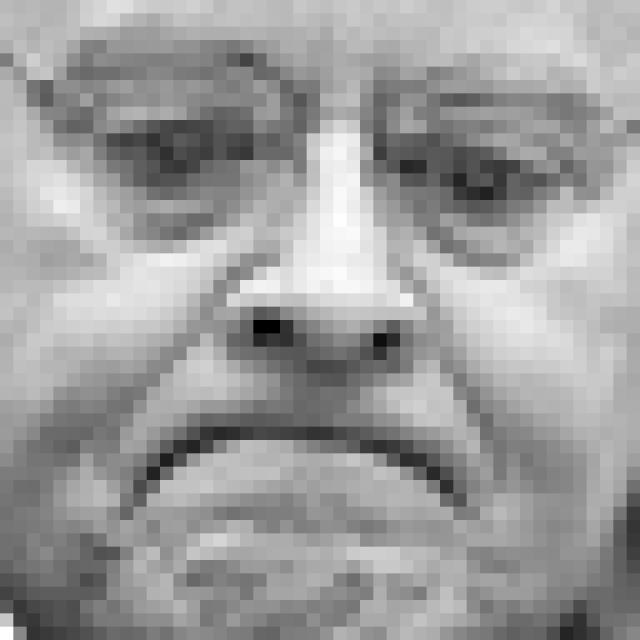sad: (61, 34, 603, 581)
